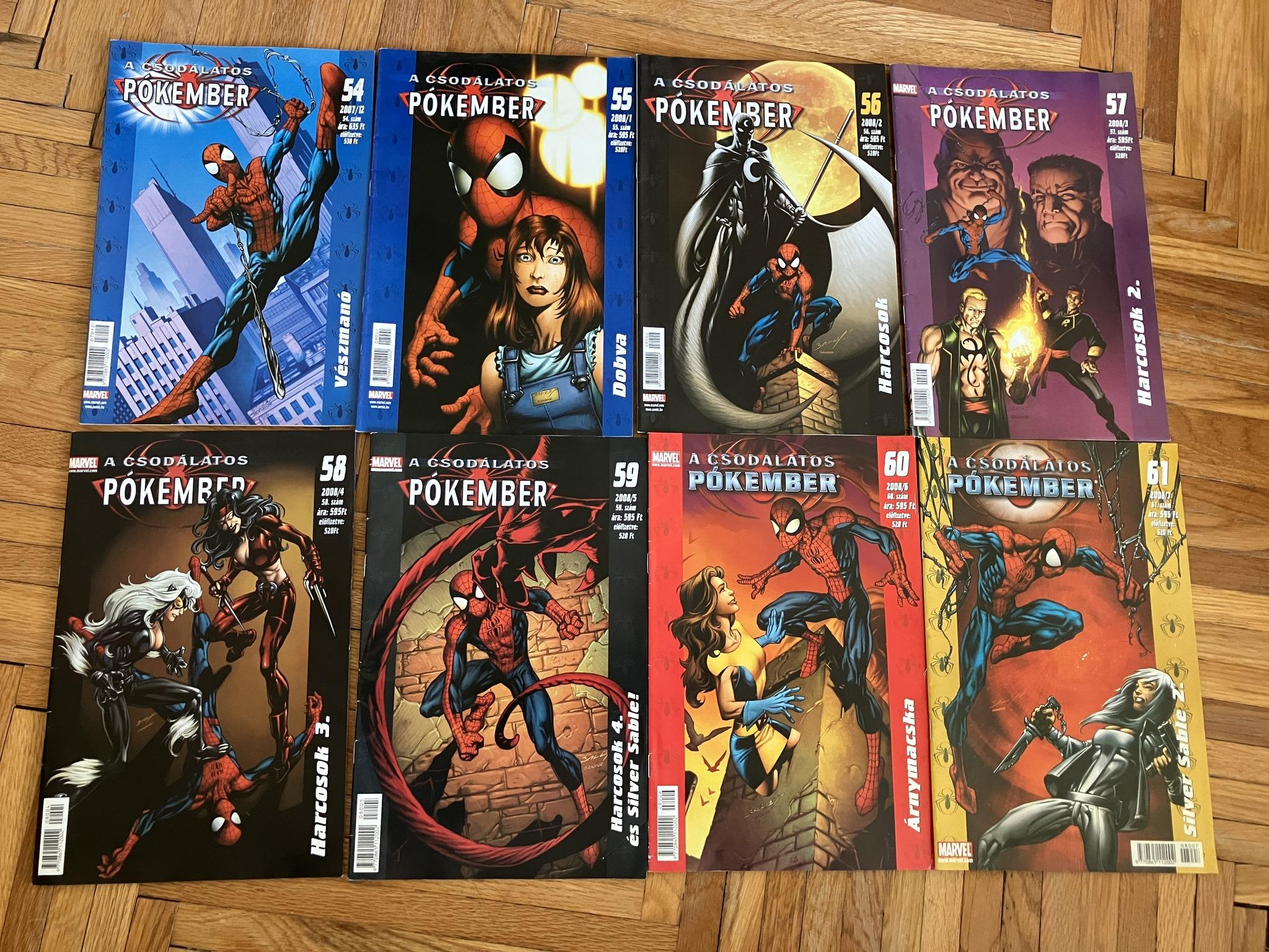comic: (33, 422, 357, 892), (917, 425, 1216, 884), (351, 434, 648, 879), (645, 430, 931, 871), (80, 33, 381, 442), (358, 49, 644, 439), (891, 52, 1168, 452), (635, 54, 905, 436)
